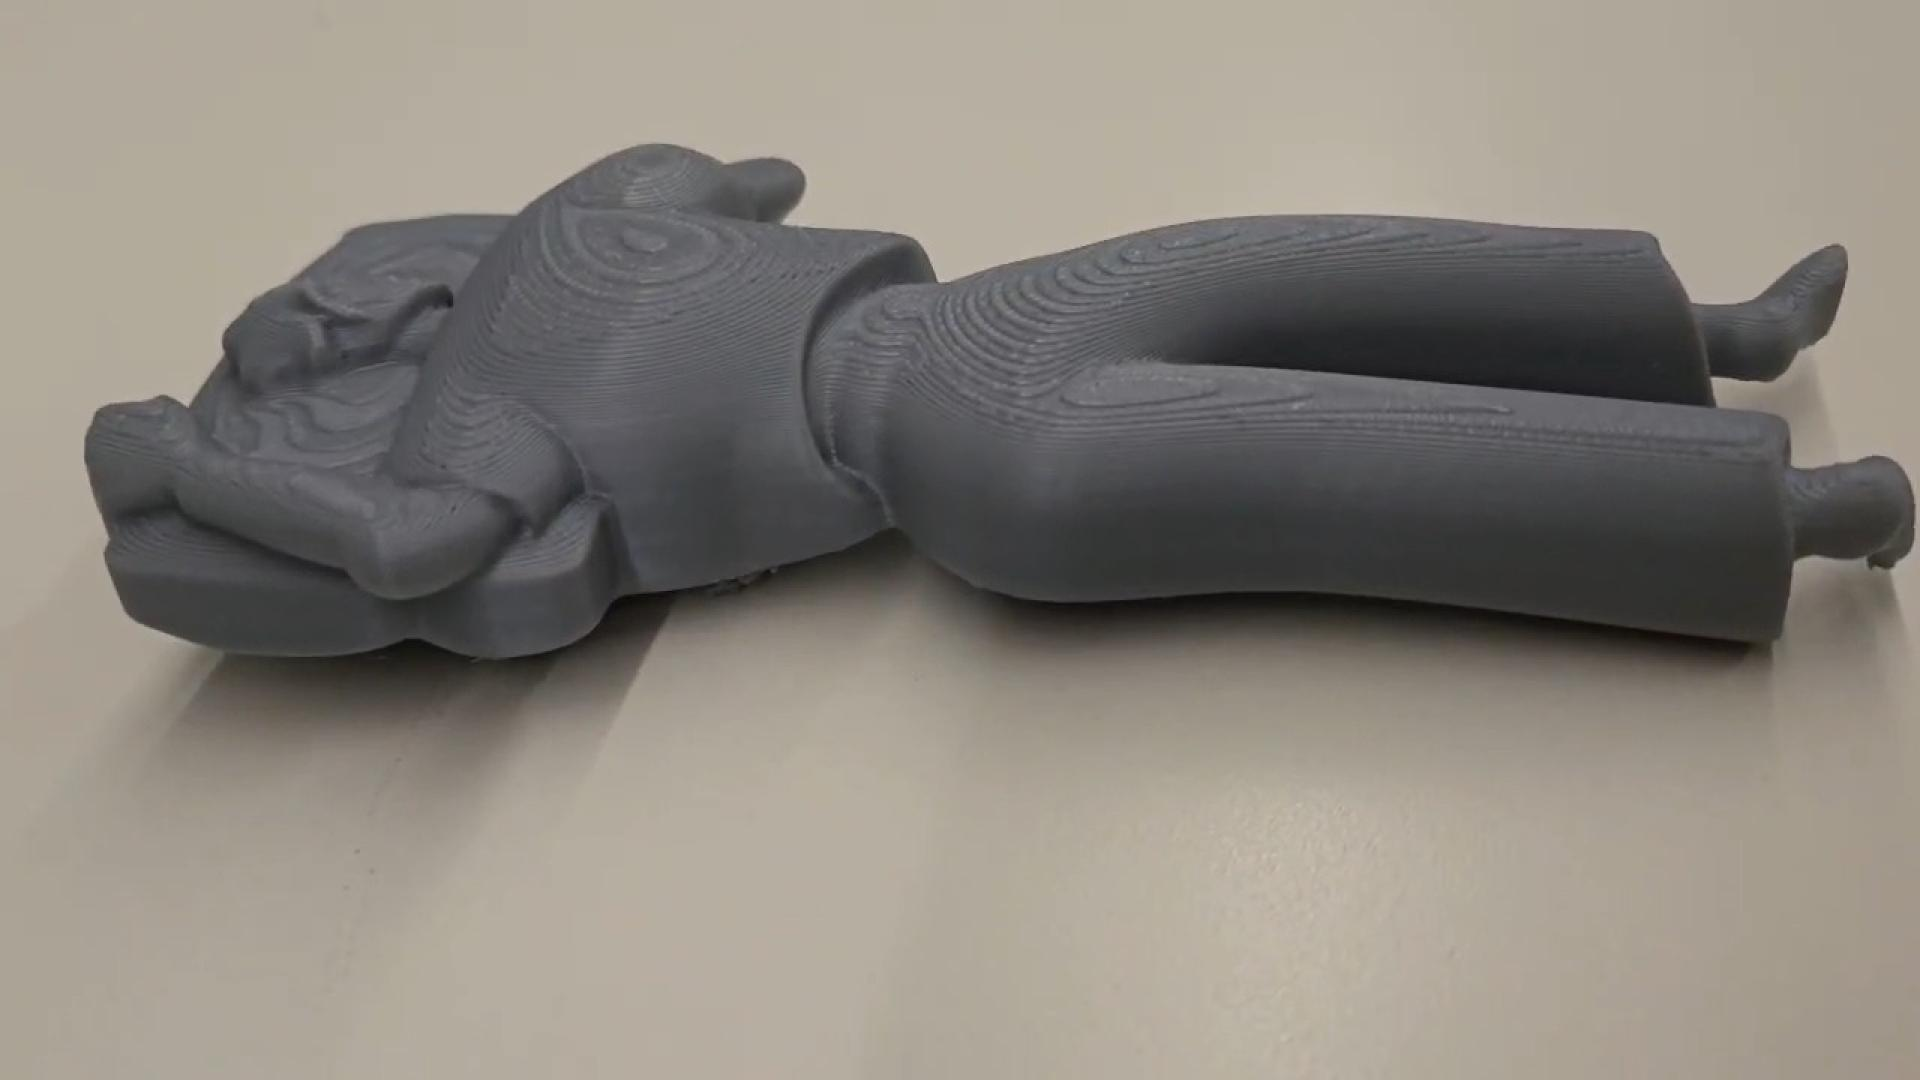Bad-style: (79, 136, 1920, 676)
